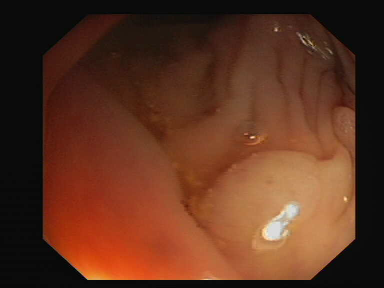polyp: (172, 112, 338, 248)
